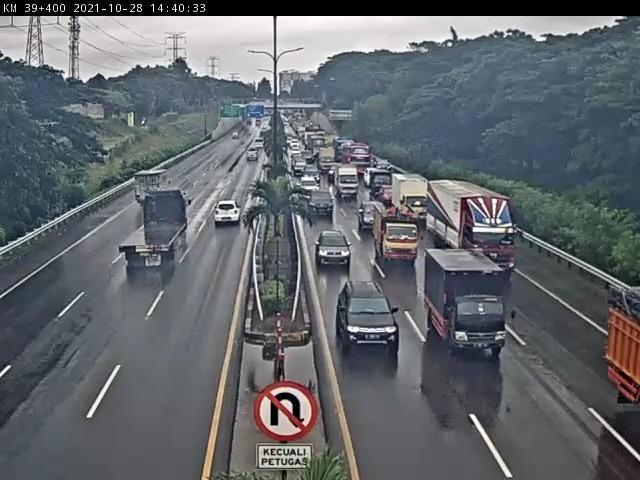car: (339, 280, 400, 350), (315, 227, 351, 268), (213, 197, 246, 226), (306, 188, 334, 219), (355, 202, 384, 229)
truck: (425, 251, 507, 356), (430, 179, 516, 268), (117, 190, 190, 264), (370, 208, 416, 263), (394, 175, 434, 224), (134, 167, 169, 203), (328, 165, 359, 198)
